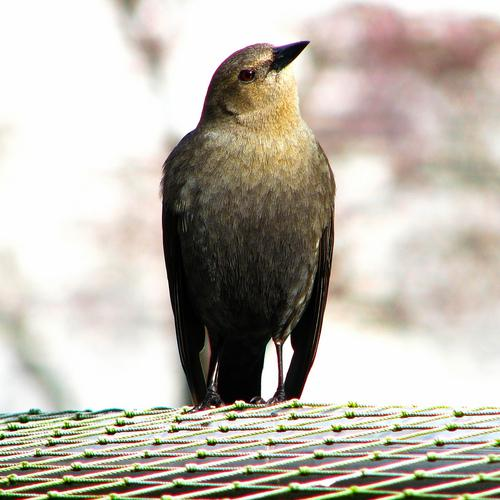009.Brewer_Blackbird: (159, 38, 343, 410)
